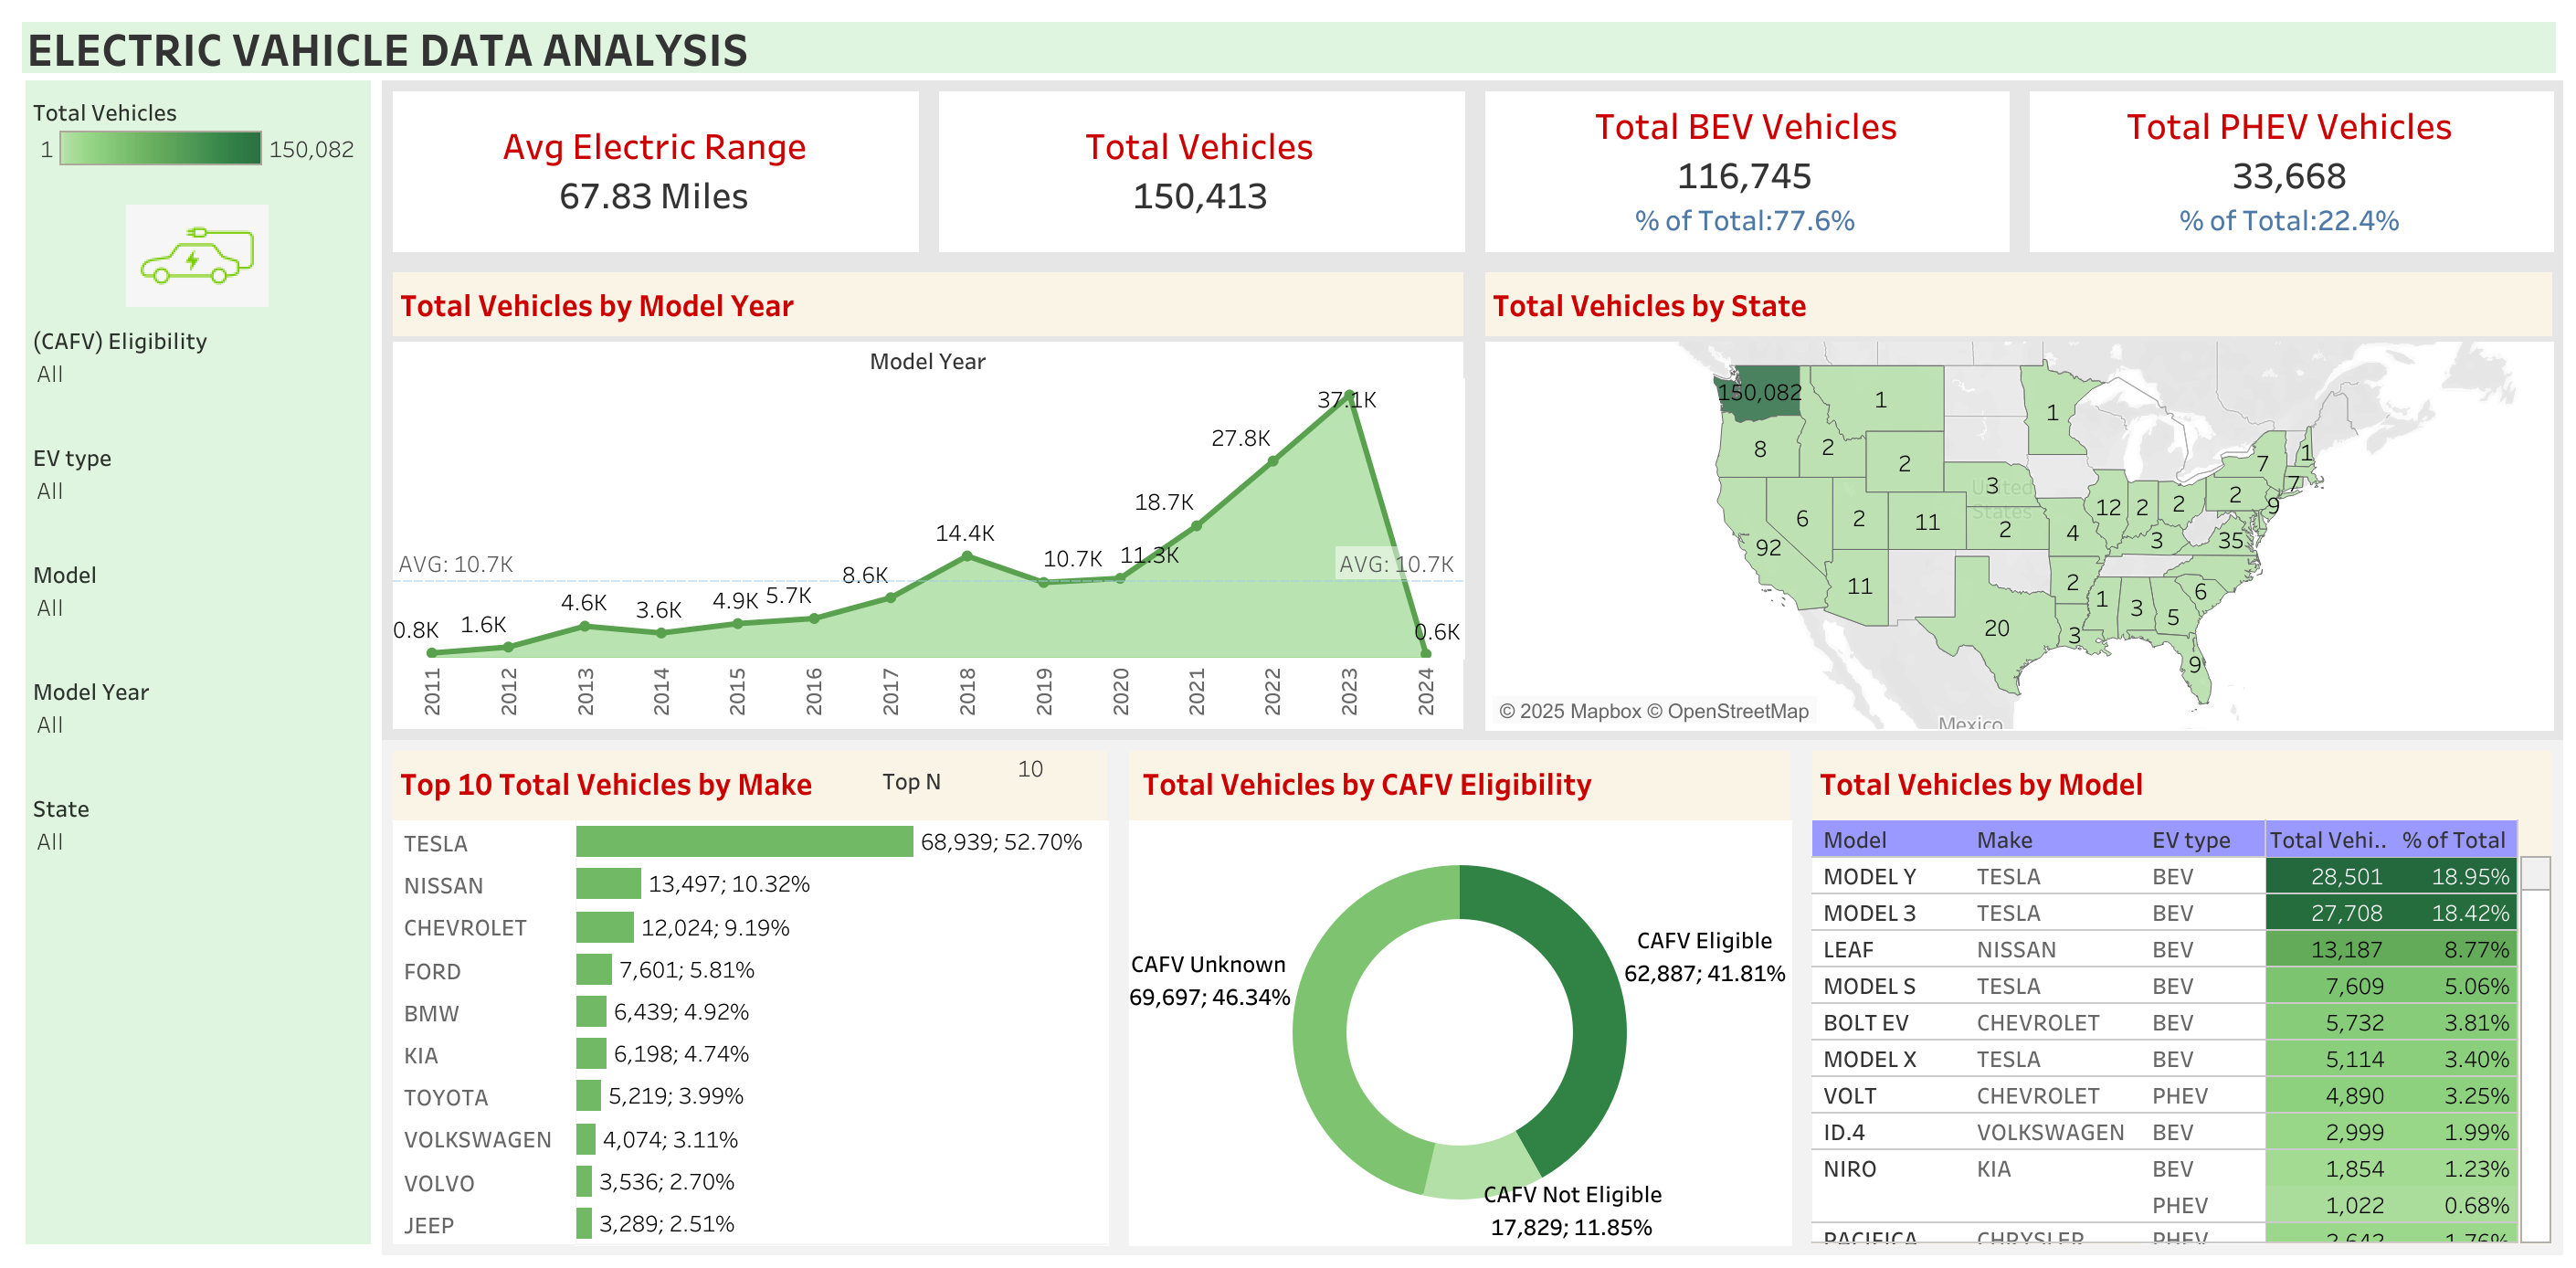

Layout of this report page (visuals, bound fields, positions):
{"tool":"tableau","page":{"name":"Dashboard 1","canvas":[1000,1000],"units":"permille","ordinal":0},"visuals":[{"type":"title","box":[6.5,12.2,987,51.9]},{"type":"legend","title":"Total Vehicles by State","param":"[federated.007nccu0ocel5y14ruik20233i2e].[usr:Calculation_4083146430339674112:qk","box":[11.4,64.3,132.6,91.9]},{"type":"worksheet","title":"Average Electric Range","mark":"Automatic","box":[148.9,64.3,211.6,142.4]},{"type":"worksheet","title":"Total Vehicles","mark":"Automatic","box":[360.5,64.3,211.6,142.4]},{"type":"worksheet","title":"Total BEV Vehicles","mark":"Automatic","box":[572,64.3,210.7,142.4]},{"type":"worksheet","title":"Total PHEV Vehicles","mark":"Automatic","box":[782.8,64.3,210.7,142.4]},{"type":"image","param":"/Users/isnisnwsjmowm/Downloads/DataAnalyst/Visualization/EV_Project/EV.jpg","box":[11.4,156.2,132.6,91.9]},{"type":"worksheet","title":"Total Vehicles by Model Year","mark":"Area","rows":["Calculation_4083146430339674112","Calculation_4083146430339674112"],"cols":["Model Year"],"box":[148.9,206.7,423.1,376.2]},{"type":"worksheet","title":"Total Vehicles by State","mark":"Multipolygon","box":[572,206.7,421.5,376.2]},{"type":"filter","title":"Total Vehicles by Model Year","param":"[federated.007nccu0ocel5y14ruik20233i2e].[none:Clean Alternative Fuel Vehicle (C","box":[11.4,248.1,132.6,91.9]},{"type":"filter","title":"Total Vehicles by Model Year","param":"[federated.007nccu0ocel5y14ruik20233i2e].[none:Electric Vehicle Type:nk]","box":[11.4,340,132.6,91.9]},{"type":"filter","title":"Total Vehicles by Model Year","param":"[federated.007nccu0ocel5y14ruik20233i2e].[none:Model:nk]","box":[11.4,431.9,132.6,91.9]},{"type":"filter","title":"Total Vehicles by Model Year","param":"[federated.007nccu0ocel5y14ruik20233i2e].[none:Model Year:ok]","box":[11.4,523.7,132.6,91.9]},{"type":"worksheet","title":"Top 10 Total Vehicles by Make","mark":"Automatic","rows":["Make"],"cols":["Calculation_4083146430339674112"],"box":[148.9,583,284.8,404.8]},{"type":"worksheet","title":" Total Vehicles by CAFV Eligibility","mark":"Pie","rows":["Calculation_4127689845490741249","Calculation_4127689845490900995"],"box":[433.7,583,220.5,404.8]},{"type":"worksheet","title":"Total Vehicles by Model","mark":"Square","rows":["Model","Make","Electric Vehicle Type"],"box":[654.2,583,339.3,404.8]},{"type":"parameter","param":"[Parameters].[Parameter 1]","box":[342.6,591.1,79.7,44.3]},{"type":"filter","title":"Total Vehicles by Model Year","param":"[federated.007nccu0ocel5y14ruik20233i2e].[none:State:nk]","box":[11.4,615.6,132.6,91.9]},{"type":"blank","box":[11.4,707.5,132.6,90.4]},{"type":"blank","box":[11.4,797.9,132.6,90.4]},{"type":"blank","box":[11.4,888.2,132.6,90.4]}]}

Visuals, with their boxes on the dashboard's canvas, which has no fixed pixel size, in thousandths of its width and height (x1, y1, x2, y2). These are canvas units, not pixel positions in the 2576x1268 screenshot, which may show the page scaled, cropped or inside an application window:
title: pyautogui.locateOnScreen(6, 12, 994, 64)
"Total Vehicles by State" legend: pyautogui.locateOnScreen(11, 64, 144, 156)
"Average Electric Range" worksheet: pyautogui.locateOnScreen(149, 64, 360, 207)
"Total Vehicles" worksheet: pyautogui.locateOnScreen(360, 64, 572, 207)
"Total BEV Vehicles" worksheet: pyautogui.locateOnScreen(572, 64, 783, 207)
"Total PHEV Vehicles" worksheet: pyautogui.locateOnScreen(783, 64, 994, 207)
image: pyautogui.locateOnScreen(11, 156, 144, 248)
"Total Vehicles by Model Year" worksheet (Area marks): pyautogui.locateOnScreen(149, 207, 572, 583)
"Total Vehicles by State" worksheet (Multipolygon marks): pyautogui.locateOnScreen(572, 207, 994, 583)
"Total Vehicles by Model Year" filter: pyautogui.locateOnScreen(11, 248, 144, 340)
"Total Vehicles by Model Year" filter: pyautogui.locateOnScreen(11, 340, 144, 432)
"Total Vehicles by Model Year" filter: pyautogui.locateOnScreen(11, 432, 144, 524)
"Total Vehicles by Model Year" filter: pyautogui.locateOnScreen(11, 524, 144, 616)
"Top 10 Total Vehicles by Make" worksheet: pyautogui.locateOnScreen(149, 583, 434, 988)
" Total Vehicles by CAFV Eligibility" worksheet (Pie marks): pyautogui.locateOnScreen(434, 583, 654, 988)
"Total Vehicles by Model" worksheet (Square marks): pyautogui.locateOnScreen(654, 583, 994, 988)
parameter: pyautogui.locateOnScreen(343, 591, 422, 635)
"Total Vehicles by Model Year" filter: pyautogui.locateOnScreen(11, 616, 144, 708)
blank: pyautogui.locateOnScreen(11, 708, 144, 798)
blank: pyautogui.locateOnScreen(11, 798, 144, 888)
blank: pyautogui.locateOnScreen(11, 888, 144, 979)
